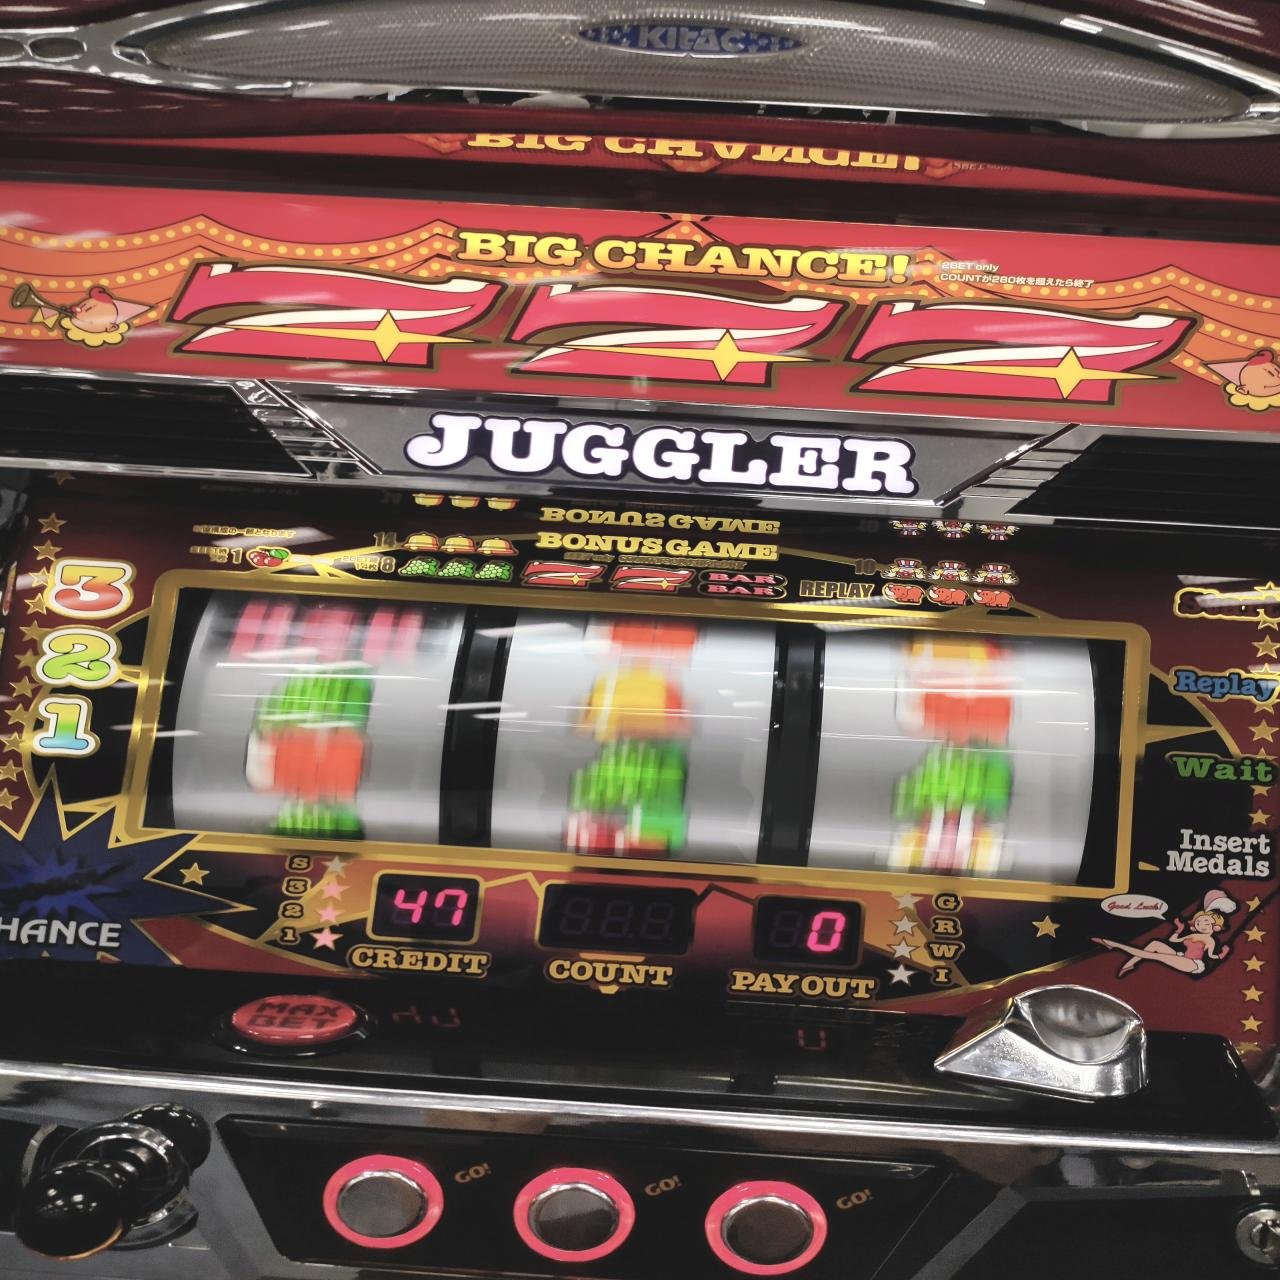rhino: (175, 579, 1122, 887)
